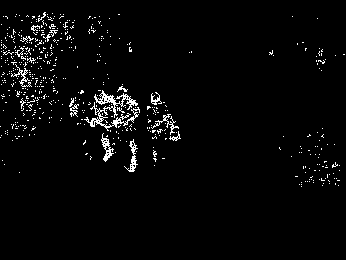person: (145, 90, 179, 172), (116, 83, 142, 173), (88, 88, 117, 163)
